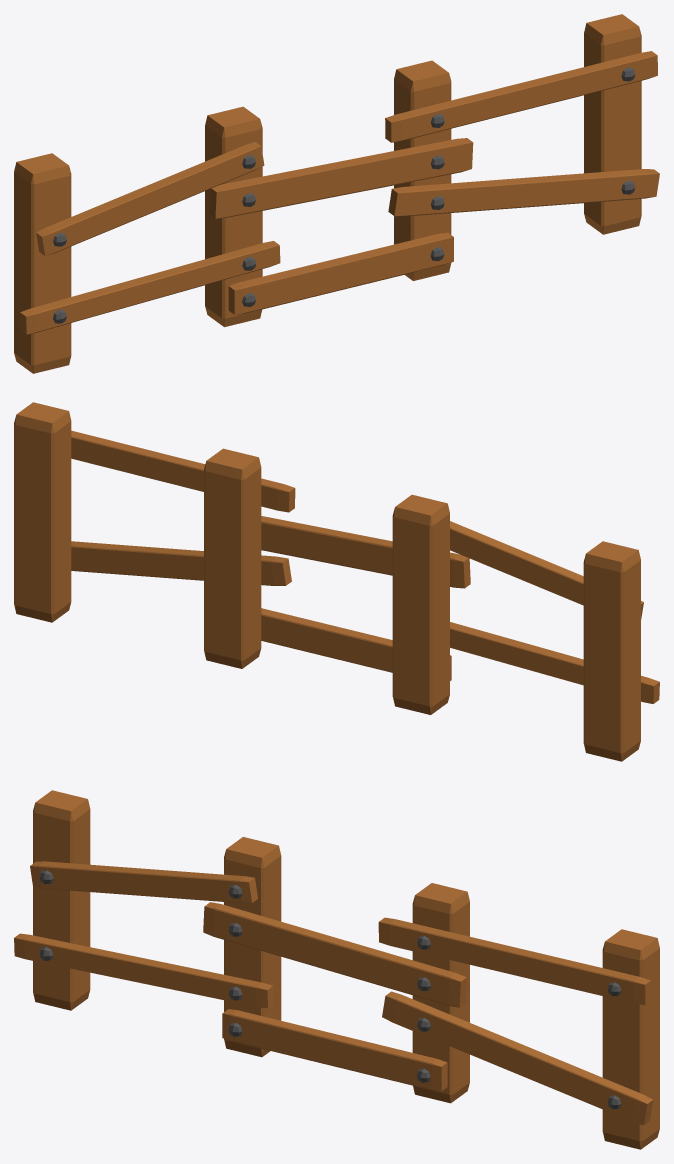
Rendered from WoodenFence.fbx.
3 renders of one model, top to bottom at view 1: azimuth 30°, elevation 25°; view 2: azimuth 150°, elevation 25°; view 3: azimuth 330°, elevation 25°, orthographic.
Visible parts, largest first — view 1: fence; view 2: fence; view 3: fence.
Boxes of the visible parts, box(x1,y1,x2,y2) form: fence: box(14, 14, 659, 373); fence: box(14, 402, 659, 761); fence: box(14, 790, 659, 1149).
Size of the model in its own units: 345 by 27.01 by 104.
